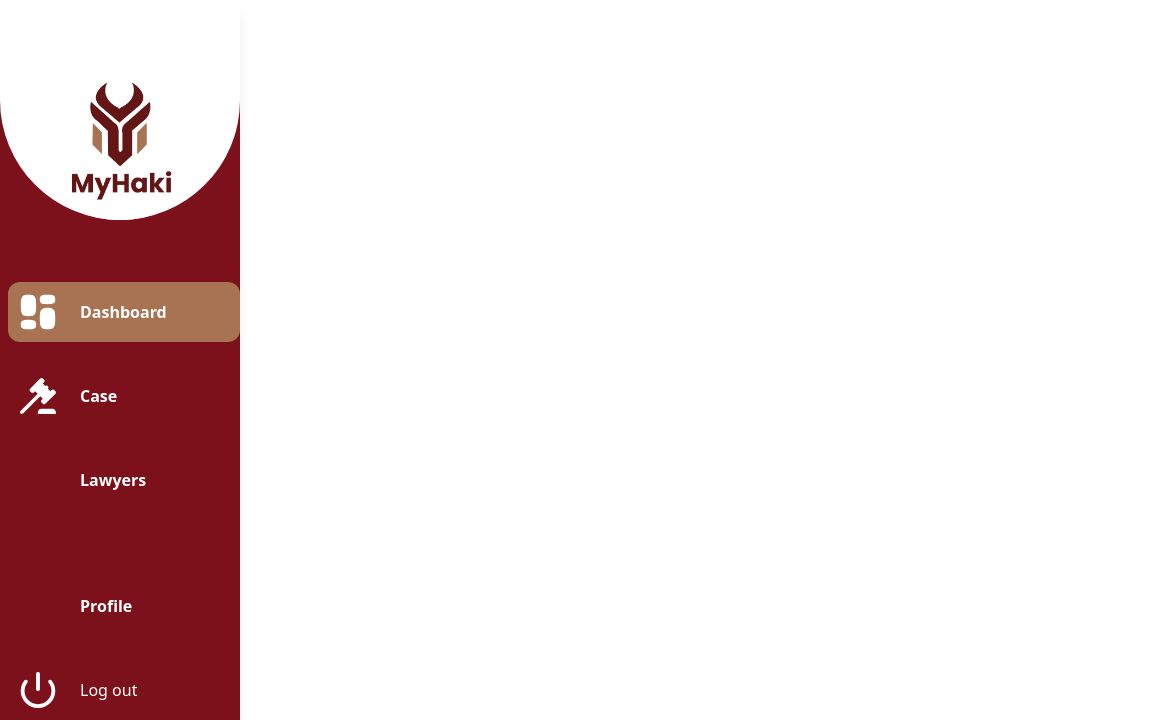
Test: Sidebar › opens and closes the sign-out modal
The image size is (1152, 720).
Click the button "Log out".
click(124, 690)  # box [8,660,240,719]
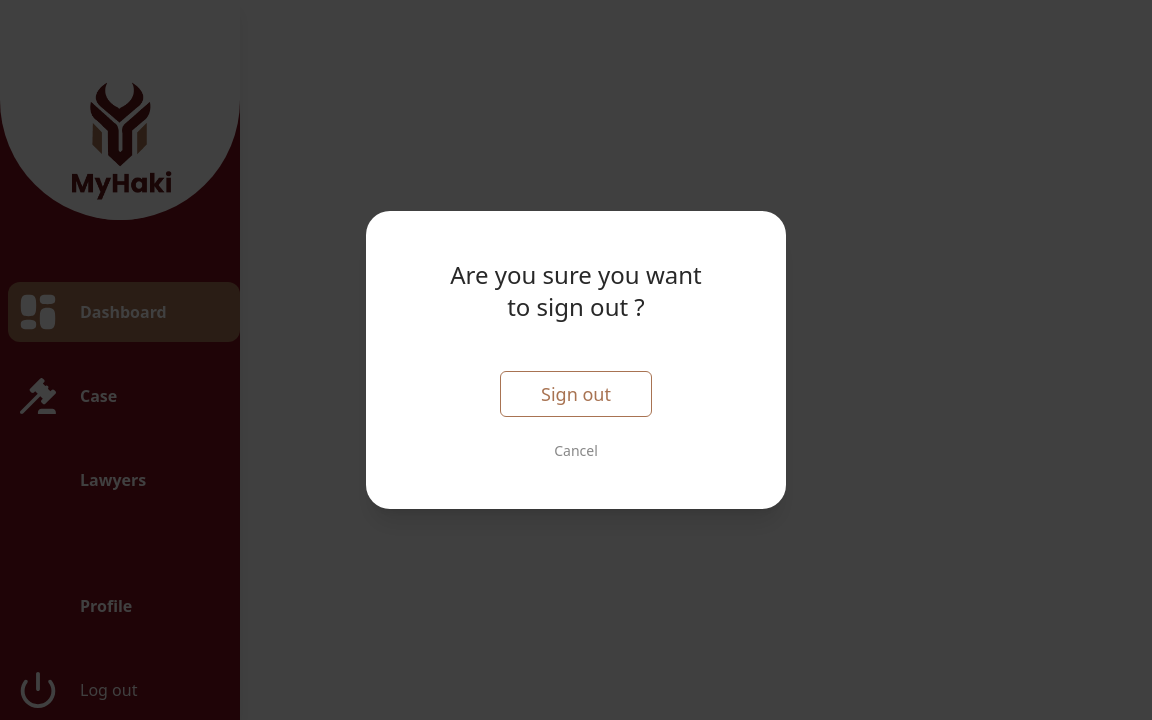
Check: the heading "Are you sure you want" is shown, box [450,258,702,291]
Click the button "Cancel".
click(576, 451)  # box [554,441,598,461]
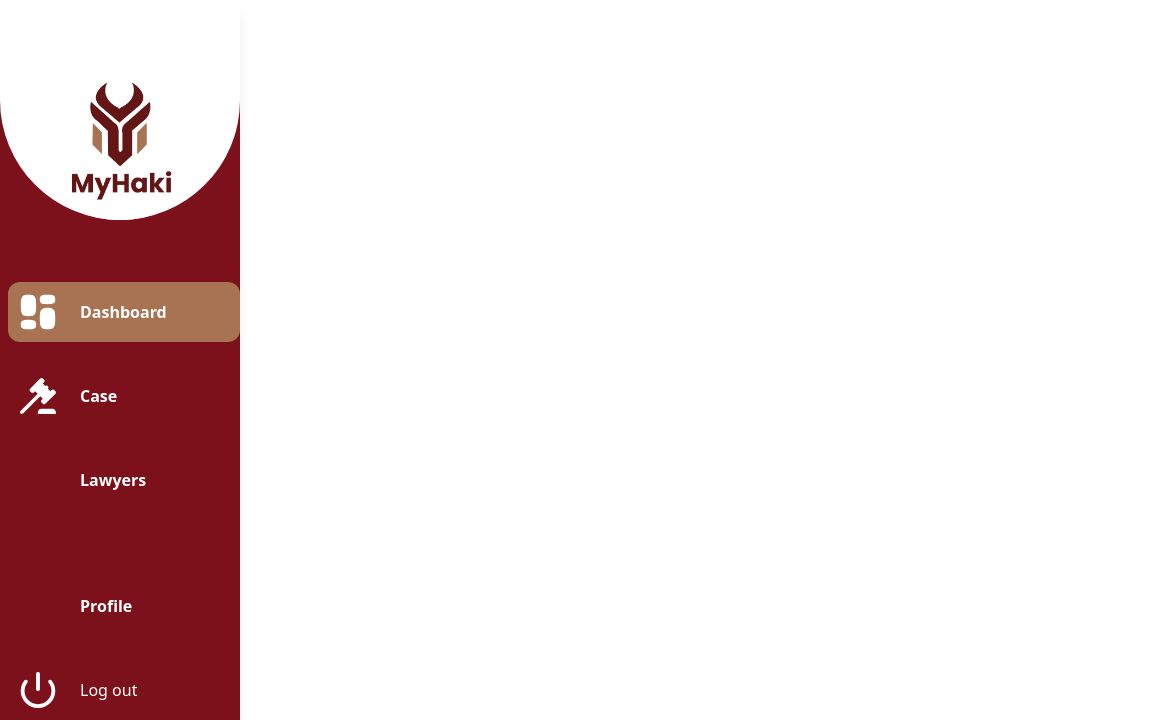
Check: the heading "Are you sure you want" is gone
